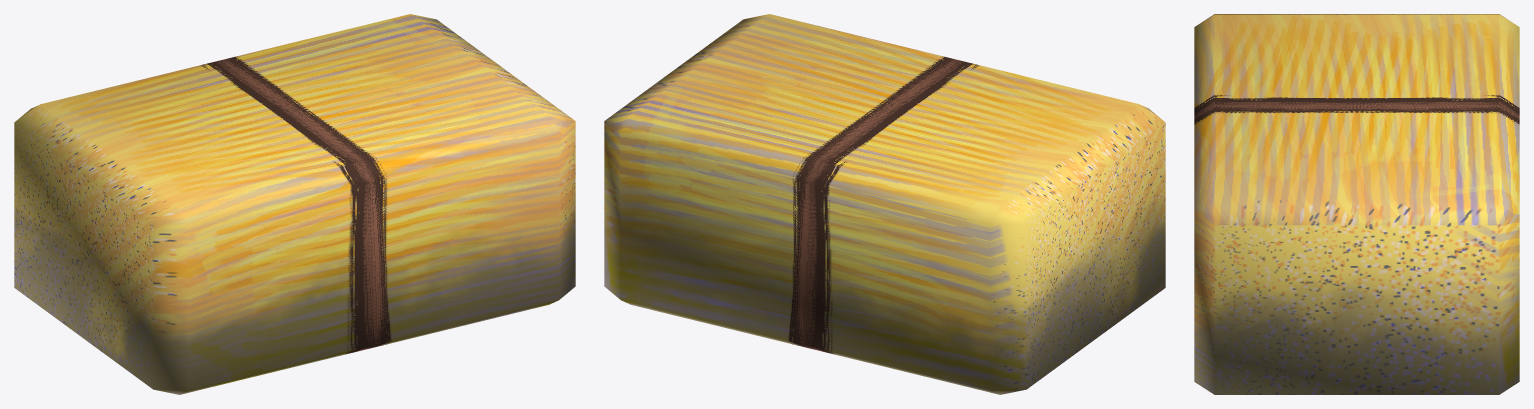
Rendered from Alpaca.fbx.
The picture shows the model from 3 angles, left to right: view 1: azimuth 30°, elevation 25°; view 2: azimuth 150°, elevation 25°; view 3: azimuth 270°, elevation 25°; orthographic projection. The views are drawn at different scales.
Visible parts, largest first — view 1: Cube.002; view 2: Cube.002; view 3: Cube.002.
Part boxes in pixels (x1,y1,x2,y2): Cube.002: (14,14,575,394); Cube.002: (604,14,1165,394); Cube.002: (1194,14,1519,394).
Size of the model in its own units: 209 by 89.67 by 136.
Materials: 1 (1 with a texture image).
